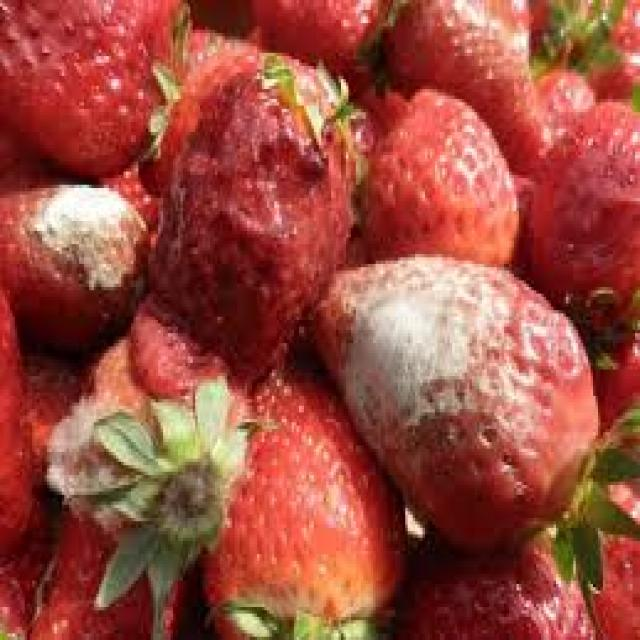organic waste: (304, 251, 637, 594), (126, 46, 358, 406), (198, 356, 405, 637), (57, 369, 247, 636), (0, 0, 185, 178), (358, 83, 516, 267), (522, 96, 638, 330), (386, 518, 593, 637), (25, 498, 185, 637), (0, 182, 146, 326), (0, 350, 79, 554), (380, 0, 524, 109), (556, 452, 638, 637), (487, 72, 588, 175), (262, 0, 383, 69), (84, 327, 151, 432), (590, 320, 638, 439), (576, 0, 638, 89), (0, 284, 22, 468), (526, 0, 588, 59), (0, 554, 27, 637)
